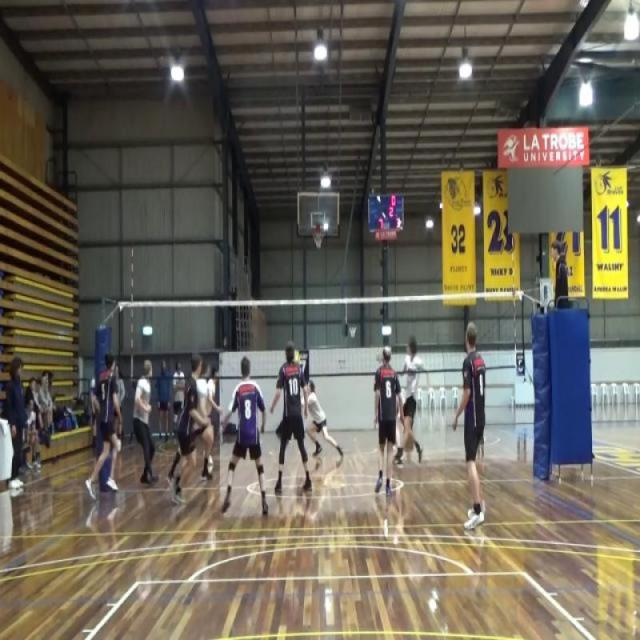volleyball: (292, 349, 300, 364)
